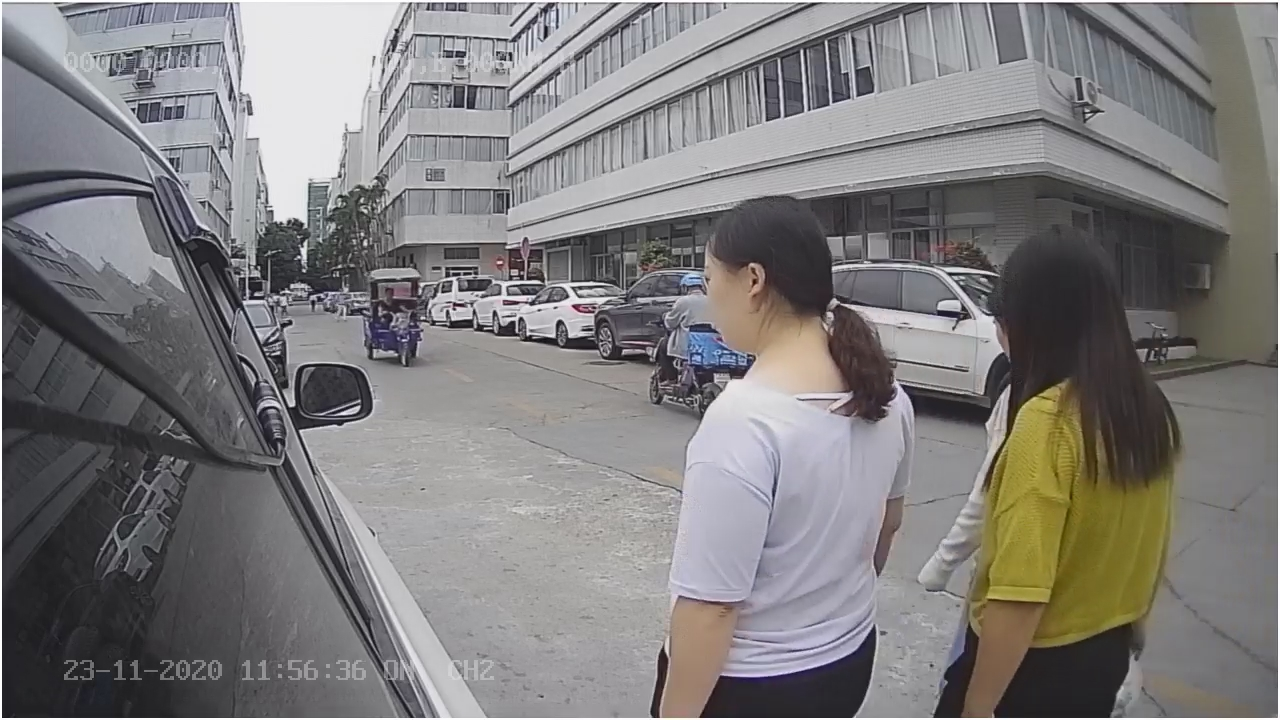person: (638, 191, 923, 718), (970, 207, 1196, 717)
